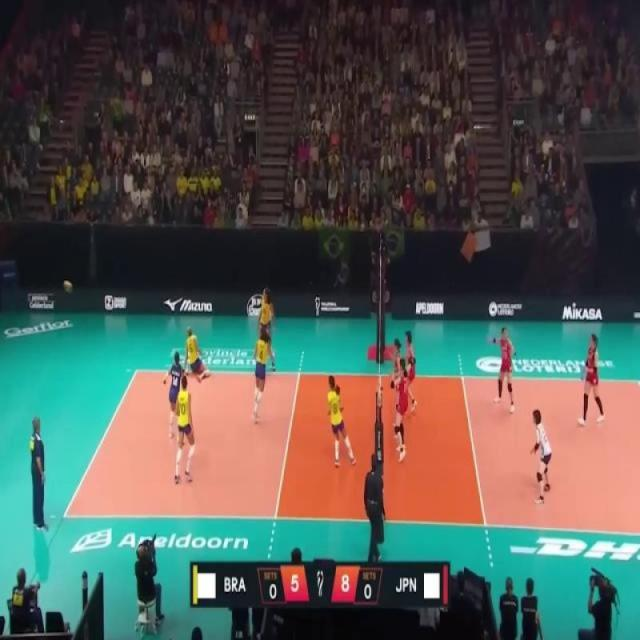volleyball: (63, 279, 73, 294)
